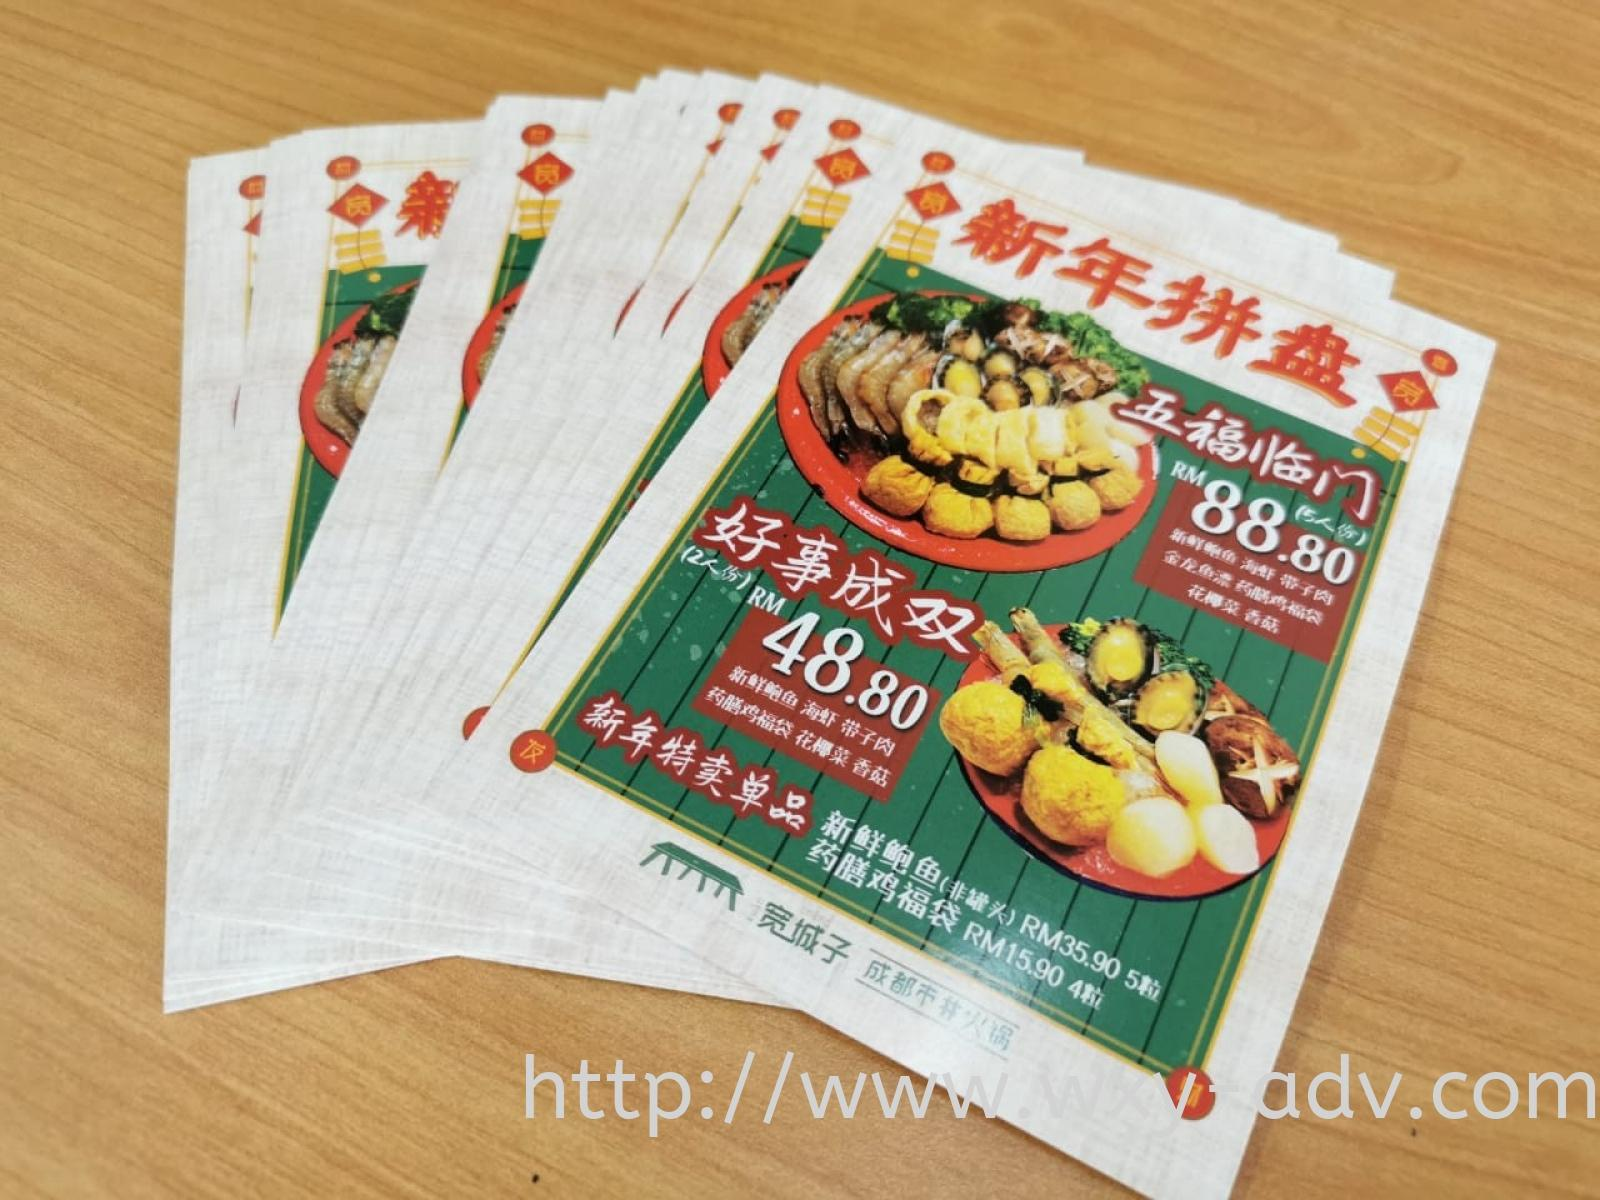paper: (164, 73, 1599, 1199)
